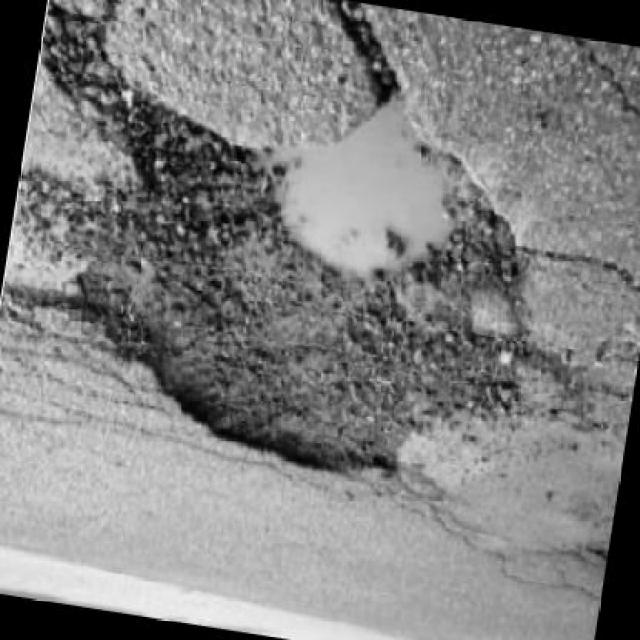pothole: (38, 39, 571, 512)
